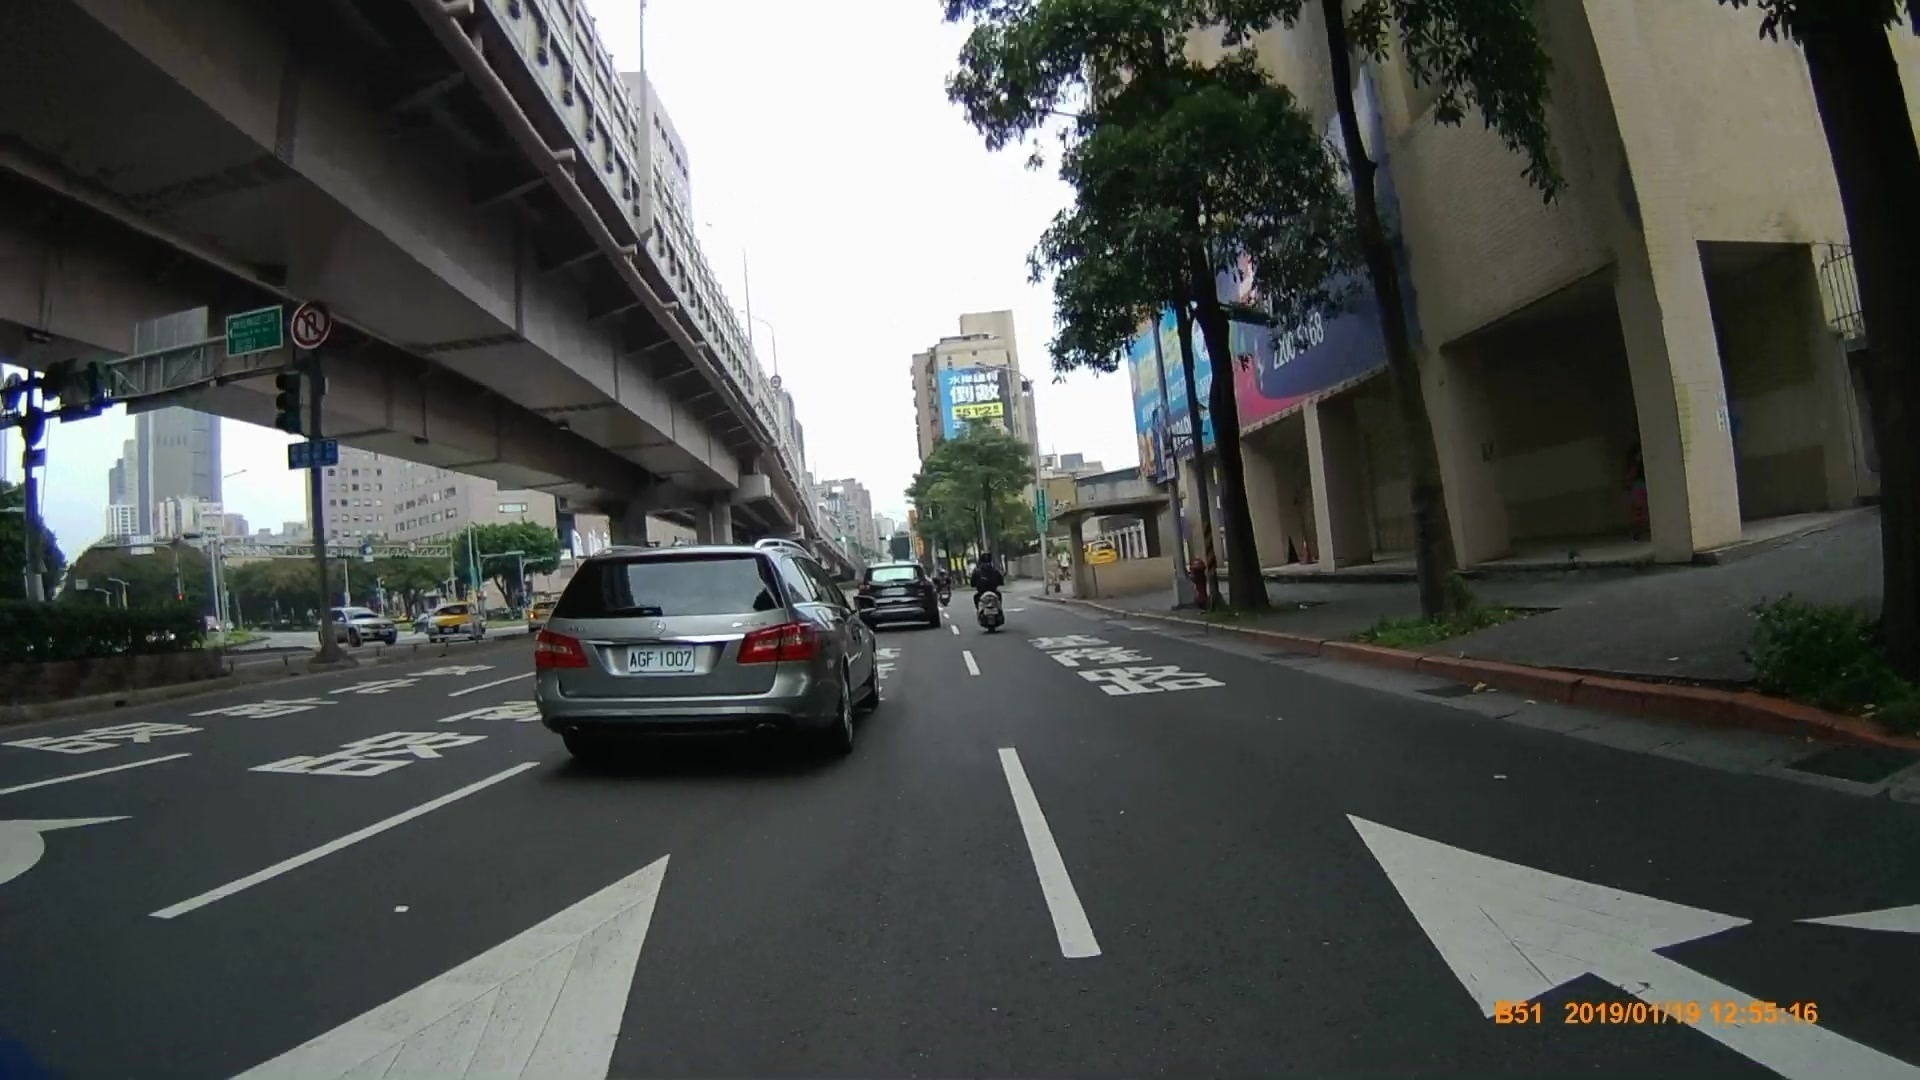License_plate: (623, 637, 697, 672)
